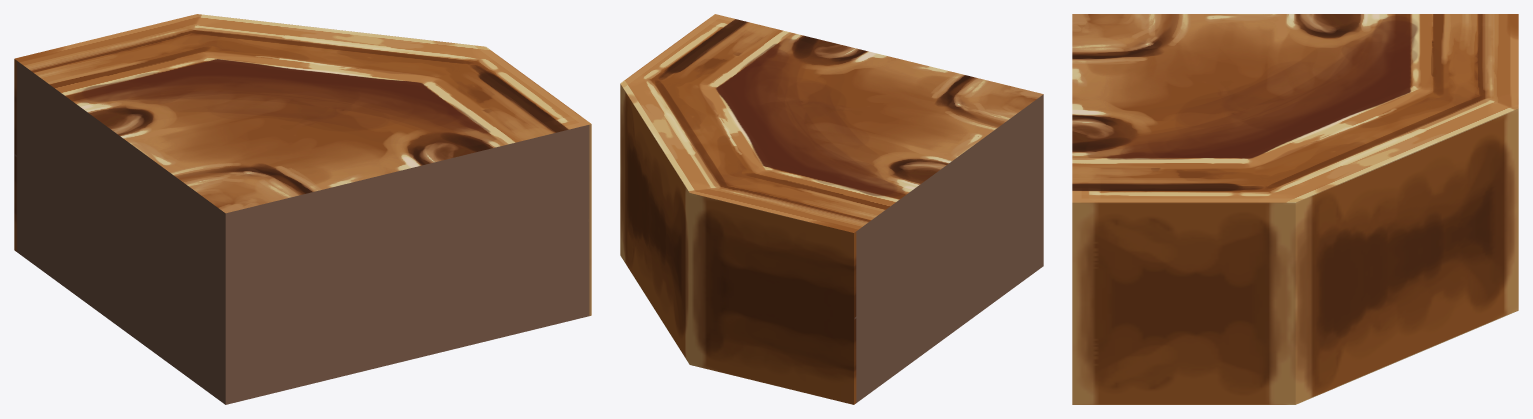
Rendered from wallBlock_03.fbx.
3 renders of one model, left to right at view 1: azimuth 30°, elevation 25°; view 2: azimuth 150°, elevation 25°; view 3: azimuth 270°, elevation 25°, orthographic. The views are drawn at different scales.
Visible parts, largest first — view 1: wallBlock_03; view 2: wallBlock_03; view 3: wallBlock_03.
Part boxes in pixels (bbox=[...]): wallBlock_03: bbox=[14, 14, 591, 404]; wallBlock_03: bbox=[620, 14, 1043, 404]; wallBlock_03: bbox=[1072, 14, 1518, 404].
Size of what is drawn, in the model's own units: 2 by 1 by 2.
